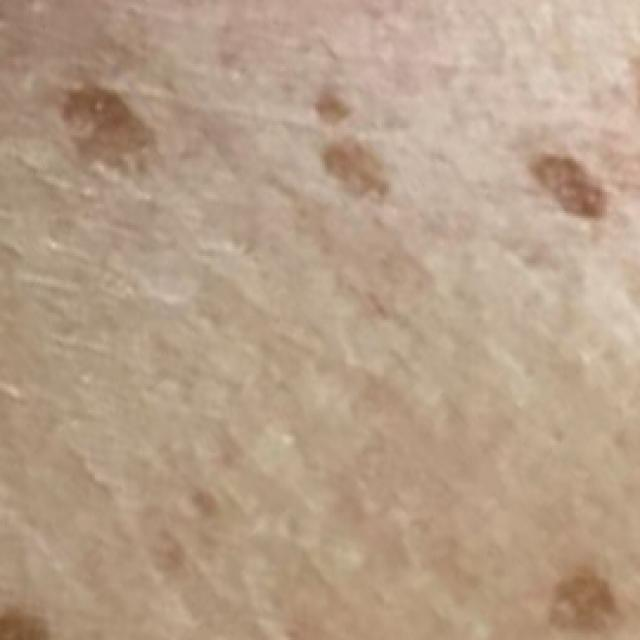wart: (61, 88, 148, 174), (543, 564, 621, 640), (526, 152, 606, 216), (320, 136, 391, 202), (0, 607, 60, 640), (310, 85, 350, 124)
